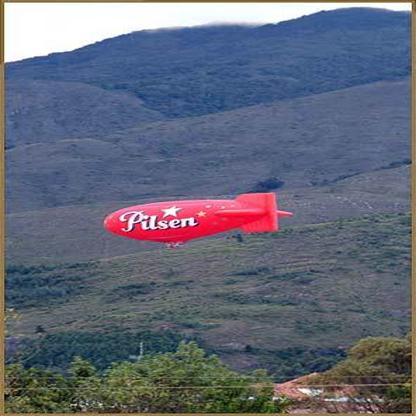Airship: (99, 190, 297, 248)
